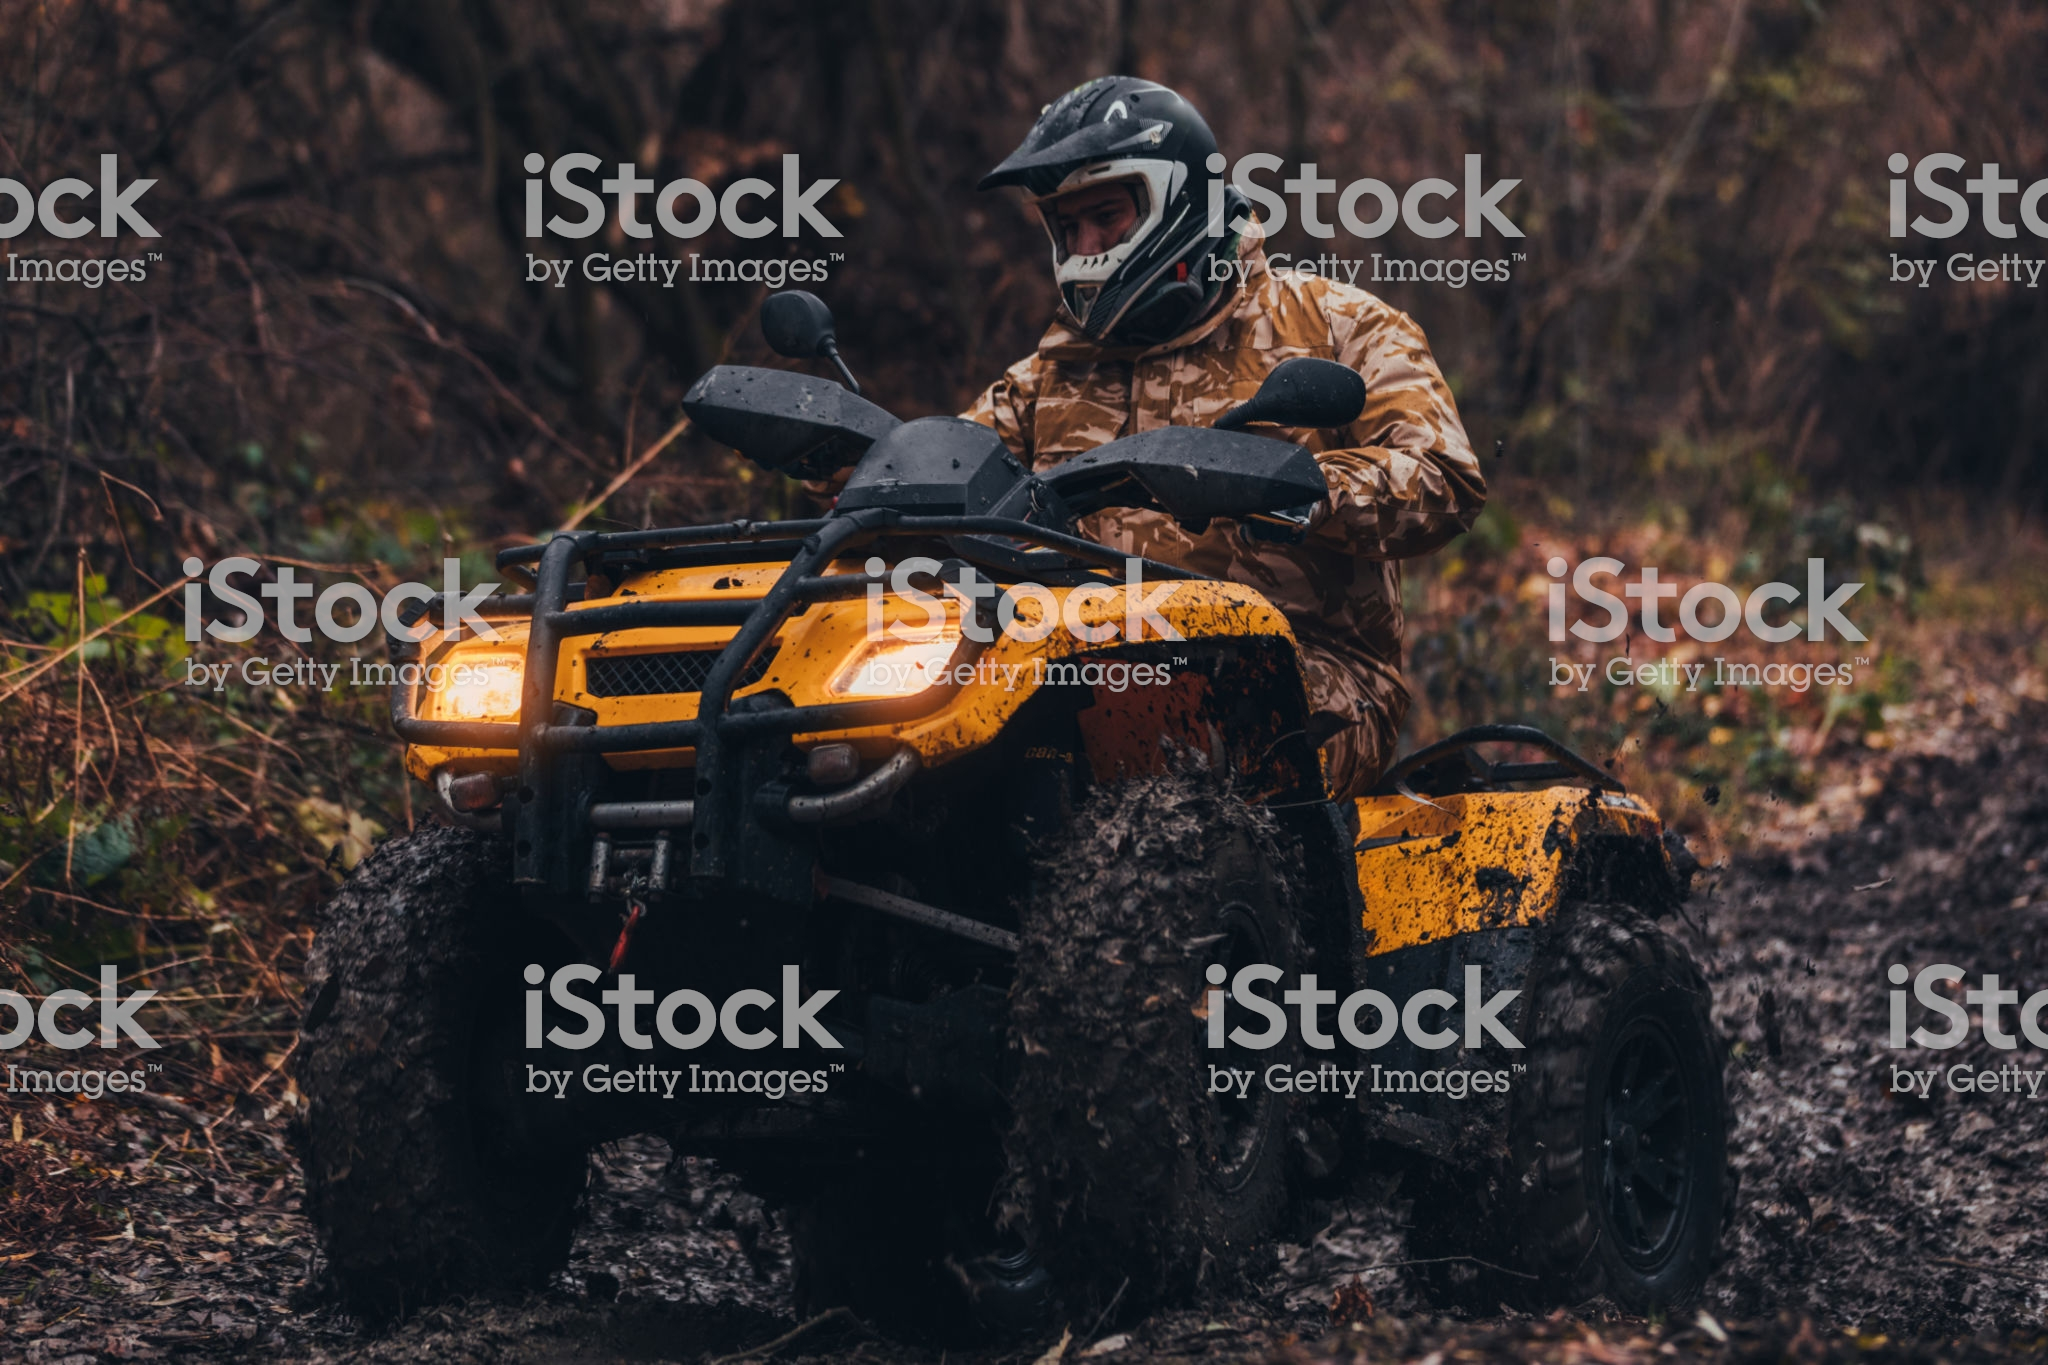helmet: (1003, 79, 1273, 369)
